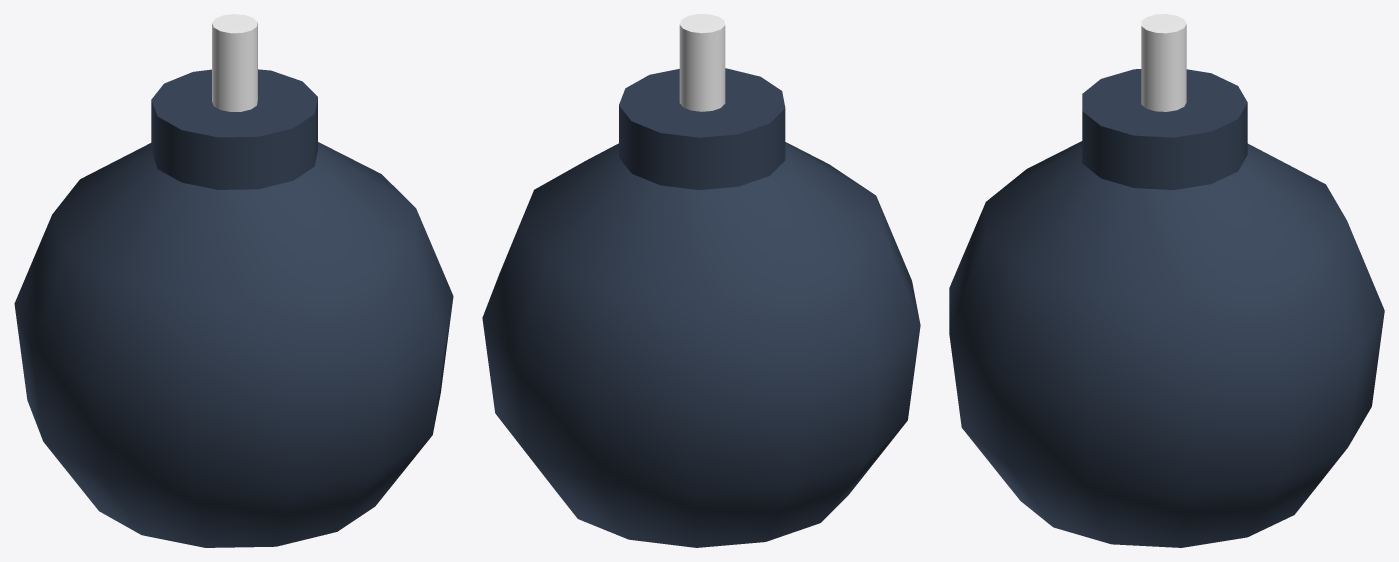
The model's file is Unwrapped_bomb.fbx.
3 views of the same model, side by side, from view 1: azimuth 30°, elevation 25°; view 2: azimuth 150°, elevation 25°; view 3: azimuth 270°, elevation 25° (orthographic).
Visible parts, largest first — view 1: Sphere003; view 2: Sphere003; view 3: Sphere003.
Part boxes in pixels (x1,y1,x2,y2): Sphere003: (14, 14, 453, 547); Sphere003: (482, 14, 920, 547); Sphere003: (949, 14, 1384, 547).
Size of the model in its own units: 41.73 by 53.86 by 41.43.
